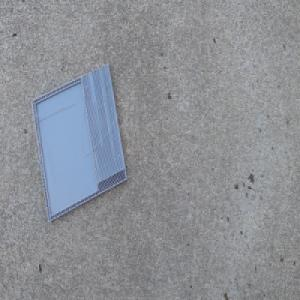PlasticPart: (30, 62, 128, 223)
